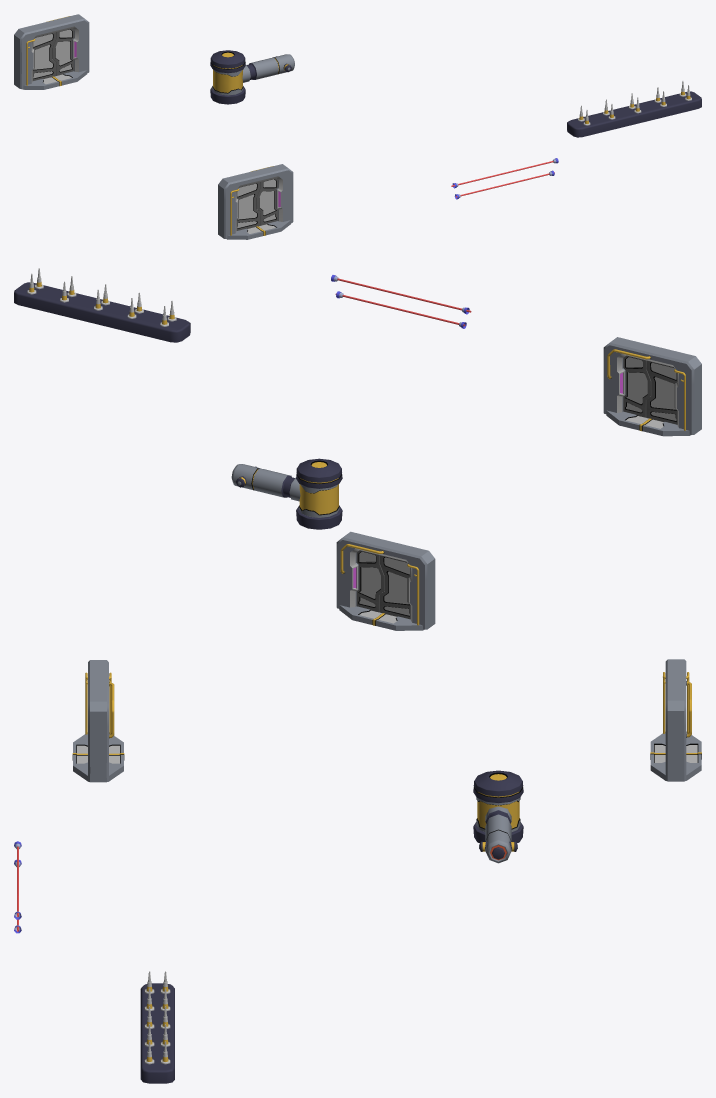
3 renders of one model, top to bottom at view 1: azimuth 30°, elevation 25°; view 2: azimuth 150°, elevation 25°; view 3: azimuth 270°, elevation 25°, orthographic. The views are drawn at different scales.
Visible parts, largest first — view 1: Base (×3), Right (×2), pCylinder13, Left (×2), Base5 (×2), pCylinder14; view 2: Base (×3), Right (×2), pCylinder13, Left (×2), Base5 (×2), pCylinder14; view 3: Base (×3), pCylinder13, Base5 (×2), pCylinder14.
Boxes of the visible parts, x1=… form: Base (×3): x1=14, y1=14, x2=701, y2=238; Right (×2): x1=32, y1=32, x2=260, y2=230; pCylinder13: x1=210, y1=50, x2=245, y2=104; Left (×2): x1=52, y1=28, x2=277, y2=225; Base5 (×2): x1=22, y1=70, x2=291, y2=239; pCylinder14: x1=242, y1=54, x2=294, y2=82; Base (×3): x1=14, y1=282, x2=701, y2=629; Right (×2): x1=379, y1=360, x2=677, y2=619; pCylinder13: x1=296, y1=458, x2=342, y2=529; Left (×2): x1=356, y1=355, x2=651, y2=612; Base5 (×2): x1=339, y1=410, x2=690, y2=630; pCylinder14: x1=231, y1=464, x2=300, y2=501; Base (×3): x1=88, y1=659, x2=686, y2=1083; pCylinder13: x1=473, y1=770, x2=523, y2=843; Base5 (×2): x1=72, y1=731, x2=701, y2=781; pCylinder14: x1=485, y1=806, x2=511, y2=863.
Size of the model in its own units: 392 by 44.07 by 331.
